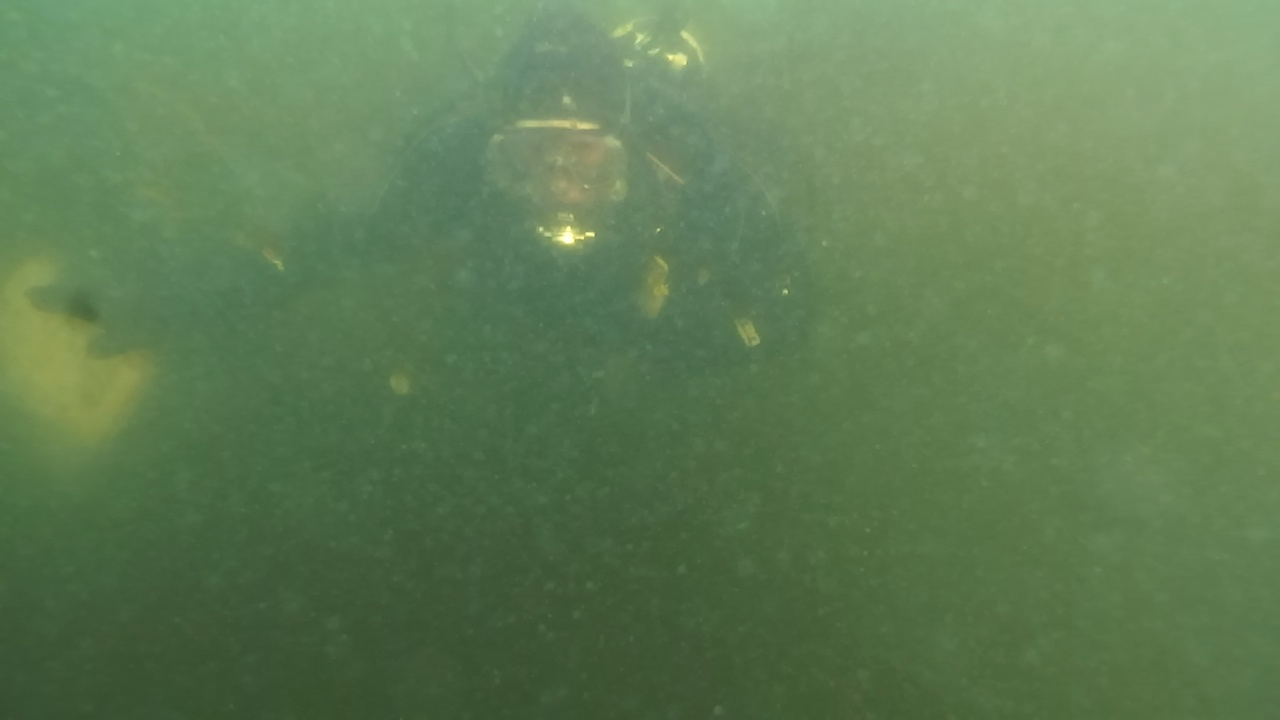Diver: (20, 8, 824, 386)
Hand: (28, 272, 218, 358)
Head: (476, 66, 642, 266)
